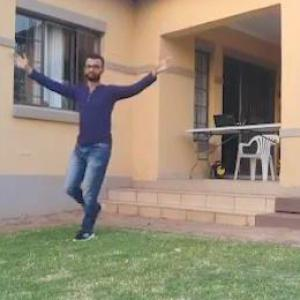takeoff: (22, 58, 186, 242)
